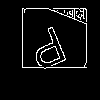P: (25, 25, 74, 81)
